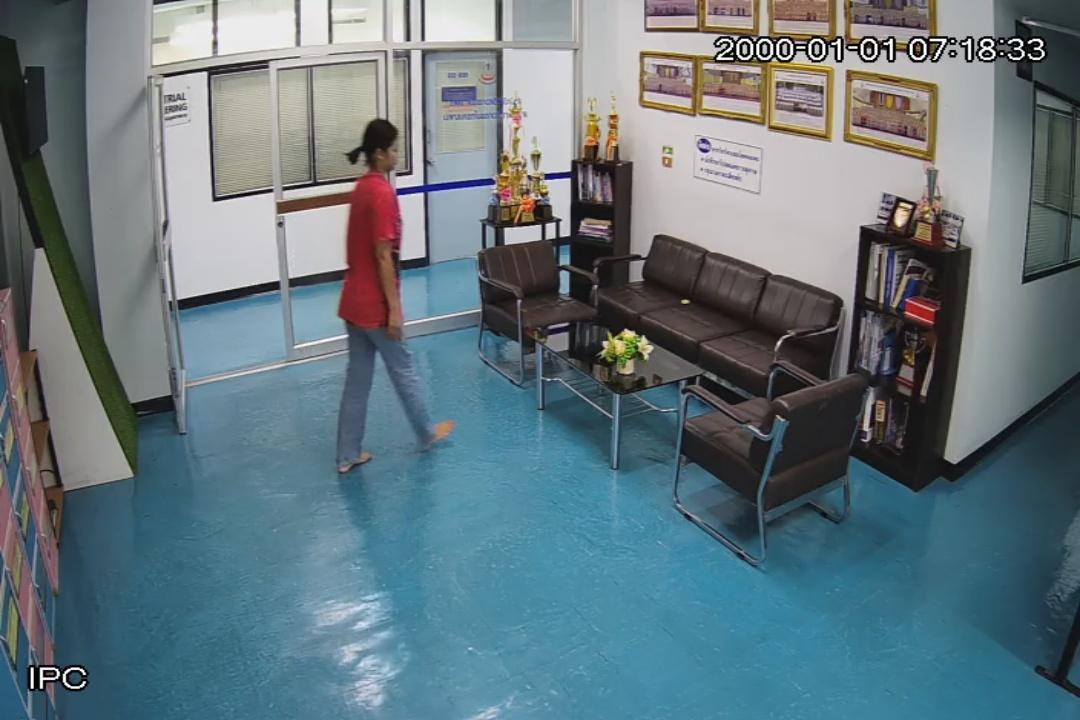normal: (308, 114, 468, 478)
